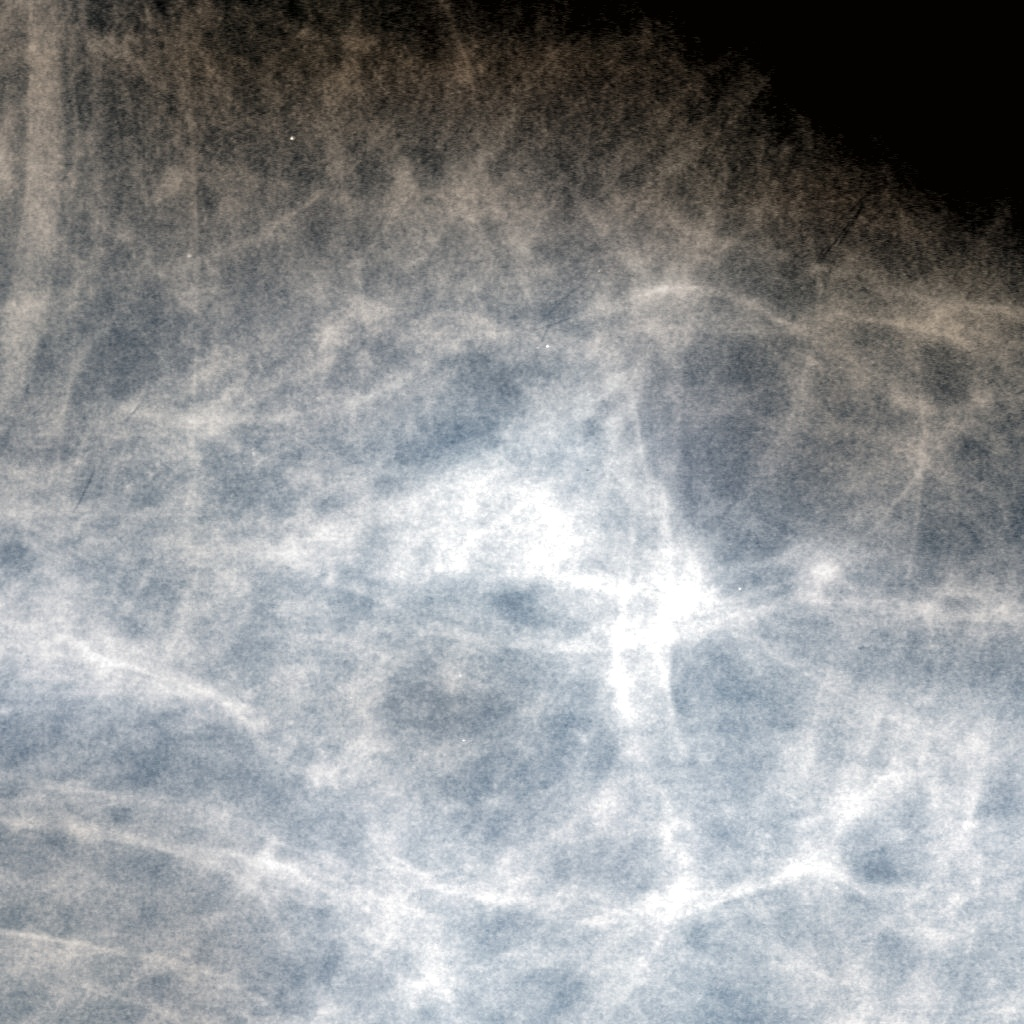tumor: (373, 389, 651, 635)
